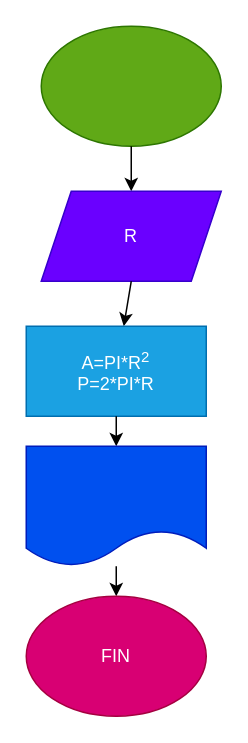
Image size: 248x743. Some labels were removed from this diagram. Here are the shapes that lost their labels. From the top down, the centre of each, then its label:
At point 130,85: "INICIO".
At point 115,505: "A.P".
